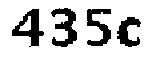3: (47, 7, 81, 51)
4: (8, 7, 45, 50)
5: (83, 8, 115, 50)
c: (115, 15, 143, 51)
